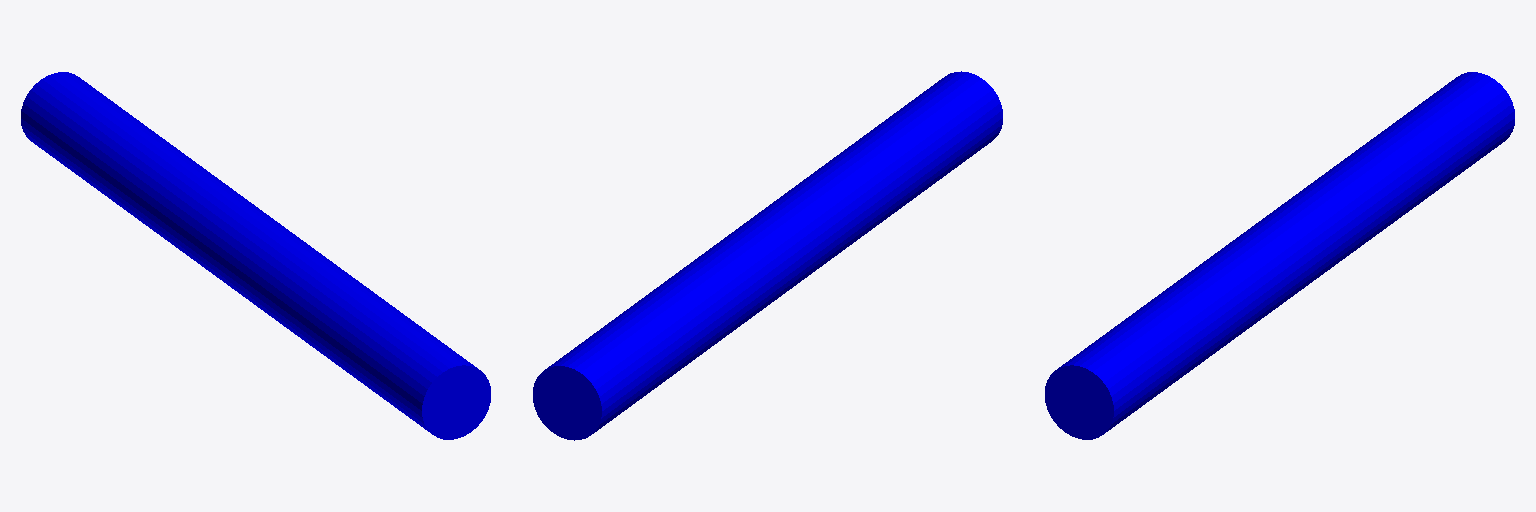
URDF robot description (ur5e):
<?xml version="1.0" encoding="utf-8"?>
<!-- =================================================================================== -->
<!-- |    This document was autogenerated by xacro from ur5e_robot.urdf.xacro          | -->
<!-- |    EDITING THIS FILE BY HAND IS NOT RECOMMENDED                                 | -->
<!-- =================================================================================== -->
<robot name="ur5e" xmlns:xacro="http://ros.org/wiki/xacro">
  <link name="base_link">
    <visual>
      <geometry>
        <mesh filename="/visual/base.dae"/>
      </geometry>
      <material name="LightGrey">
        <color rgba="0.7 0.7 0.7 1.0"/>
      </material>
    </visual>
    <collision>
      <geometry>
        <mesh filename="/collision/base.stl" scale="1.0 1.0 1.0"/>
      </geometry>
    </collision>
    <inertial>
      <mass value="4.0"/>
      <origin rpy="0 0 0" xyz="0.0 0.0 0.0"/>
      <inertia ixx="0.00443333156" ixy="0.0" ixz="0.0" iyy="0.00443333156" iyz="0.0" izz="0.0072"/>
    </inertial>
  </link>
  <joint name="shoulder_pan_joint" type="revolute">
    <parent link="base_link"/>
    <child link="shoulder_link"/>
    <origin rpy="0.0 0.0 0.0" xyz="0.0 0.0 0.163"/>
    <axis xyz="0 0 1"/>
    <limit effort="150.0" lower="-6.28318530718" upper="6.28318530718" velocity="3.14"/>
    <dynamics damping="0.0" friction="0.0"/>
  </joint>
  <link name="shoulder_link">
    <visual>
      <geometry>
        <mesh filename="/visual/shoulder.dae"/>
      </geometry>
      <material name="LightGrey">
        <color rgba="0.7 0.7 0.7 1.0"/>
      </material>
    </visual>
    <collision>
      <geometry>
        <mesh filename="/collision/shoulder.stl" scale="1.0 1.0 1.0"/>
      </geometry>
    </collision>
    <inertial>
      <mass value="3.7"/>
      <origin rpy="0 0 0" xyz="0.0 0.0 0.0"/>
      <inertia ixx="0.010267495893" ixy="0.0" ixz="0.0" iyy="0.010267495893" iyz="0.0" izz="0.00666"/>
    </inertial>
  </link>
  <joint name="shoulder_lift_joint" type="revolute">
    <parent link="shoulder_link"/>
    <child link="upper_arm_link"/>
    <origin rpy="0.0 1.57079632679 0.0" xyz="0.0 0.138 0.0"/>
    <axis xyz="0 1 0"/>
    <limit effort="150.0" lower="-6.28318530718" upper="6.28318530718" velocity="3.14"/>
    <dynamics damping="0.0" friction="0.0"/>
  </joint>
  <link name="upper_arm_link">
    <visual>
      <geometry>
        <mesh filename="/visual/upperarm.dae"/>
      </geometry>
      <material name="LightGrey">
        <color rgba="0.7 0.7 0.7 1.0"/>
      </material>
    </visual>
    <collision>
      <geometry>
        <mesh filename="/collision/upperarm.stl" scale="1.0 1.0 1.0"/>
      </geometry>
    </collision>
    <inertial>
      <mass value="8.393"/>
      <origin rpy="0 0 0" xyz="0.0 0.0 0.2125"/>
      <inertia ixx="0.133885781862" ixy="0.0" ixz="0.0" iyy="0.133885781862" iyz="0.0" izz="0.0151074"/>
    </inertial>
  </link>
  <joint name="elbow_joint" type="revolute">
    <parent link="upper_arm_link"/>
    <child link="forearm_link"/>
    <origin rpy="0.0 0.0 0.0" xyz="0.0 -0.131 0.425"/>
    <axis xyz="0 1 0"/>
    <limit effort="150.0" lower="-3.14159265359" upper="3.14159265359" velocity="3.14"/>
    <dynamics damping="0.0" friction="0.0"/>
  </joint>
  <link name="forearm_link">
    <visual>
      <geometry>
        <mesh filename="/visual/forearm.dae"/>
      </geometry>
      <material name="LightGrey">
        <color rgba="0.7 0.7 0.7 1.0"/>
      </material>
    </visual>
    <collision>
      <geometry>
        <mesh filename="/collision/forearm.stl" scale="1.0 1.0 1.0"/>
      </geometry>
    </collision>
    <inertial>
      <mass value="2.275"/>
      <origin rpy="0 0 0" xyz="0.0 0.0 0.196"/>
      <inertia ixx="0.0311796208615" ixy="0.0" ixz="0.0" iyy="0.0311796208615" iyz="0.0" izz="0.004095"/>
    </inertial>
  </link>
  <joint name="wrist_1_joint" type="revolute">
    <parent link="forearm_link"/>
    <child link="wrist_1_link"/>
    <origin rpy="0.0 1.57079632679 0.0" xyz="0.0 0.0 0.392"/>
    <axis xyz="0 1 0"/>
    <limit effort="28.0" lower="-6.28318530718" upper="6.28318530718" velocity="6.28"/>
    <dynamics damping="0.0" friction="0.0"/>
  </joint>
  <link name="wrist_1_link">
    <visual>
      <geometry>
        <mesh filename="/visual/wrist1.dae"/>
      </geometry>
      <material name="LightGrey">
        <color rgba="0.7 0.7 0.7 1.0"/>
      </material>
    </visual>
    <collision>
      <geometry>
        <mesh filename="/collision/wrist1.stl" scale="1.0 1.0 1.0"/>
      </geometry>
    </collision>
    <inertial>
      <mass value="1.219"/>
      <origin rpy="0 0 0" xyz="0.0 0.127 0.0"/>
      <inertia ixx="0.00255989897604" ixy="0.0" ixz="0.0" iyy="0.00255989897604" iyz="0.0" izz="0.0021942"/>
    </inertial>
  </link>
  <joint name="wrist_2_joint" type="revolute">
    <parent link="wrist_1_link"/>
    <child link="wrist_2_link"/>
    <origin rpy="0.0 0.0 0.0" xyz="0.0 0.127 0.0"/>
    <axis xyz="0 0 1"/>
    <limit effort="28.0" lower="-6.28318530718" upper="6.28318530718" velocity="6.28"/>
    <dynamics damping="0.0" friction="0.0"/>
  </joint>
  <link name="wrist_2_link">
    <visual>
      <geometry>
        <mesh filename="/visual/wrist2.dae"/>
      </geometry>
      <material name="LightGrey">
        <color rgba="0.7 0.7 0.7 1.0"/>
      </material>
    </visual>
    <collision>
      <geometry>
        <mesh filename="/collision/wrist2.stl" scale="1.0 1.0 1.0"/>
      </geometry>
    </collision>
    <inertial>
      <mass value="1.219"/>
      <origin rpy="0 0 0" xyz="0.0 0.0 0.1"/>
      <inertia ixx="0.00255989897604" ixy="0.0" ixz="0.0" iyy="0.00255989897604" iyz="0.0" izz="0.0021942"/>
    </inertial>
  </link>
  <joint name="wrist_3_joint" type="revolute">
    <parent link="wrist_2_link"/>
    <child link="wrist_3_link"/>
    <origin rpy="0.0 0.0 0.0" xyz="0.0 0.0 0.1"/>
    <axis xyz="0 1 0"/>
    <limit effort="28.0" lower="-6.28318530718" upper="6.28318530718" velocity="6.28"/>
    <dynamics damping="0.0" friction="0.0"/>
  </joint>
  <link name="wrist_3_link">
    <visual>
      <geometry>
        <mesh filename="/visual/wrist3.dae"/>
      </geometry>
      <material name="LightGrey">
        <color rgba="0.7 0.7 0.7 1.0"/>
      </material>
    </visual>
    <collision>
      <geometry>
        <mesh filename="/collision/wrist3.stl" scale="1.0 1.0 1.0"/>
      </geometry>
    </collision>
    <inertial>
      <mass value="0.1879"/>
      <origin rpy="1.57079632679 0 0" xyz="0.0 0.0771 0.0"/>
      <inertia ixx="9.89041005217e-05" ixy="0.0" ixz="0.0" iyy="9.89041005217e-05" iyz="0.0" izz="0.0001321171875"/>
    </inertial>
  </link>
  <joint name="ee_fixed_joint" type="fixed">
    <parent link="wrist_3_link"/>
    <child link="ee_link"/>
    <origin rpy="0.0 0.0 1.57079632679" xyz="0.0 0.1 0.0"/>
  </joint>
  <link name="ee_link">
    <collision>
      <geometry>
        <box size="0.01 0.01 0.01"/>
      </geometry>
      <origin rpy="0 0 0" xyz="-0.01 0 0"/>
    </collision>
  </link>
  <transmission name="shoulder_pan_trans">
    <type>transmission_interface/SimpleTransmission</type>
    <joint name="shoulder_pan_joint">
      <hardwareInterface>hardware_interface/PositionJointInterface</hardwareInterface>
    </joint>
    <actuator name="shoulder_pan_motor">
      <mechanicalReduction>1</mechanicalReduction>
    </actuator>
  </transmission>
  <transmission name="shoulder_lift_trans">
    <type>transmission_interface/SimpleTransmission</type>
    <joint name="shoulder_lift_joint">
      <hardwareInterface>hardware_interface/PositionJointInterface</hardwareInterface>
    </joint>
    <actuator name="shoulder_lift_motor">
      <mechanicalReduction>1</mechanicalReduction>
    </actuator>
  </transmission>
  <transmission name="elbow_trans">
    <type>transmission_interface/SimpleTransmission</type>
    <joint name="elbow_joint">
      <hardwareInterface>hardware_interface/PositionJointInterface</hardwareInterface>
    </joint>
    <actuator name="elbow_motor">
      <mechanicalReduction>1</mechanicalReduction>
    </actuator>
  </transmission>
  <transmission name="wrist_1_trans">
    <type>transmission_interface/SimpleTransmission</type>
    <joint name="wrist_1_joint">
      <hardwareInterface>hardware_interface/PositionJointInterface</hardwareInterface>
    </joint>
    <actuator name="wrist_1_motor">
      <mechanicalReduction>1</mechanicalReduction>
    </actuator>
  </transmission>
  <transmission name="wrist_2_trans">
    <type>transmission_interface/SimpleTransmission</type>
    <joint name="wrist_2_joint">
      <hardwareInterface>hardware_interface/PositionJointInterface</hardwareInterface>
    </joint>
    <actuator name="wrist_2_motor">
      <mechanicalReduction>1</mechanicalReduction>
    </actuator>
  </transmission>
  <transmission name="wrist_3_trans">
    <type>transmission_interface/SimpleTransmission</type>
    <joint name="wrist_3_joint">
      <hardwareInterface>hardware_interface/PositionJointInterface</hardwareInterface>
    </joint>
    <actuator name="wrist_3_motor">
      <mechanicalReduction>1</mechanicalReduction>
    </actuator>
  </transmission>
  <gazebo reference="shoulder_link">
    <selfCollide>true</selfCollide>
  </gazebo>
  <gazebo reference="upper_arm_link">
    <selfCollide>true</selfCollide>
  </gazebo>
  <gazebo reference="forearm_link">
    <selfCollide>true</selfCollide>
  </gazebo>
  <gazebo reference="wrist_1_link">
    <selfCollide>true</selfCollide>
  </gazebo>
  <gazebo reference="wrist_3_link">
    <selfCollide>true</selfCollide>
  </gazebo>
  <gazebo reference="wrist_2_link">
    <selfCollide>true</selfCollide>
  </gazebo>
  <gazebo reference="ee_link">
    <selfCollide>true</selfCollide>
  </gazebo>
  <!-- ROS base_link to UR 'Base' Coordinates transform -->
  <link name="base"/>
  <joint name="base_link-base_fixed_joint" type="fixed">
    <!-- NOTE: this rotation is only needed as long as base_link itself is
                 not corrected wrt the real robot (ie: rotated over 180
                 degrees)
      -->
    <origin rpy="0 0 -3.14159265359" xyz="0 0 0"/>
    <parent link="base_link"/>
    <child link="base"/>
  </joint>
  <!-- Frame coincident with all-zeros TCP on UR controller -->
  <link name="tool0"/>
  <joint name="wrist_3_link-tool0_fixed_joint" type="fixed">
    <origin rpy="-1.57079632679 0 0" xyz="0 0.1 0"/>
    <parent link="wrist_3_link"/>
    <child link="tool0"/>
  </joint>

  <joint name="ee_probe_joint" type="fixed">
    <parent link="ee_link" />
    <child link="ee_probe" />
    <origin xyz="0.05 0 0" rpy="0 1.57 0" />
  </joint>

  <link name="ee_probe">
    <visual>
      <origin xyz="0 0 0" rpy="0 0 0" />
      <geometry>
        <cylinder length="0.1" radius="0.005" />
      </geometry>
      <material name="blue">
        <color rgba="0 0 1 1" />
      </material>
    </visual>
  </link>

  <joint name="ee_probe_tip_joint" type="fixed">
    <parent link="ee_probe" />
    <child link="ee_probe_tip" />
    <origin xyz="0 0 0.07" rpy="0 0 0" />
  </joint>

  <link name="ee_probe_tip">
  </link>

  <link name="world"/>
  <joint name="world_joint" type="fixed">
    <parent link="world"/>
    <child link="base_link"/>
    <origin rpy="0.0 0.0 0" xyz="0.0 0.0 0.0"/>
  </joint>
</robot>

--- What the picture shows (computed from the rendered views, not written in the file) ---
The picture shows the robot from 3 angles, left to right: view 1: azimuth 30°, elevation 25°; view 2: azimuth 150°, elevation 25°; view 3: azimuth 330°, elevation 25°; orthographic projection.
Robot: ur5e — 13 links, 12 joints (6 revolute, 6 fixed); root link world; default pose: all joints at 0.
Visible links, largest first — view 1: ee_probe; view 2: ee_probe; view 3: ee_probe.
Boxes of the visible links, box(x1,y1,x2,y2) form: ee_probe: box(21, 72, 490, 439); ee_probe: box(533, 71, 1002, 440); ee_probe: box(1045, 72, 1514, 439).
Bounding box of the posed robot: 0.01 × 0.1 × 0.0101 m (x, y, z).
Geometry: only primitive shapes (box / cylinder / sphere) drawn; not drawn: 7 mesh visuals (reference in a form the renderer does not follow).